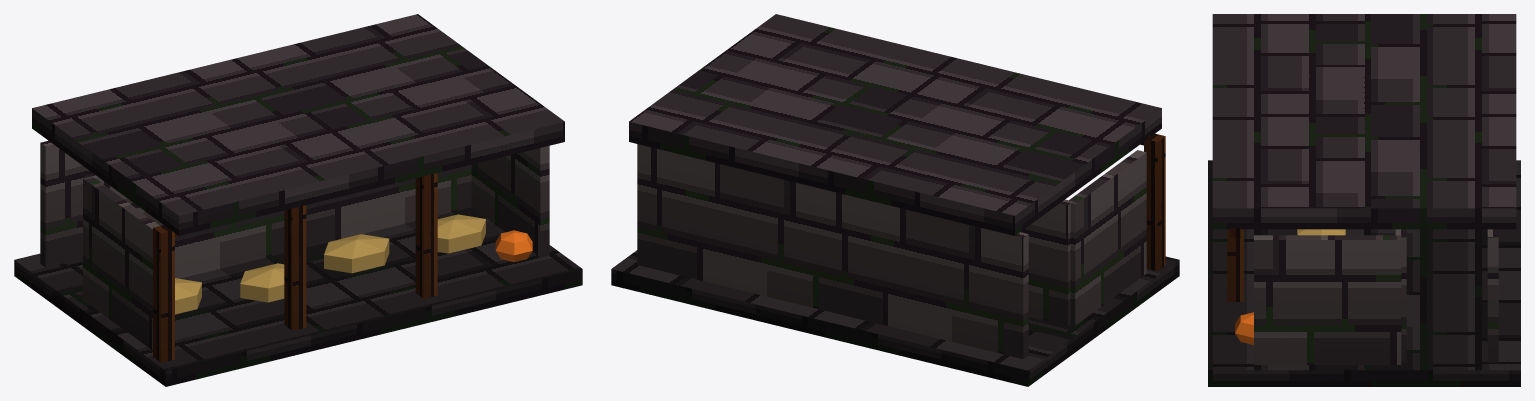
The model's file is lizard_stable.glb.
The picture shows the model from 3 angles, left to right: view 1: azimuth 30°, elevation 25°; view 2: azimuth 150°, elevation 25°; view 3: azimuth 270°, elevation 25°; orthographic projection. The views are drawn at different scales.
Parts seen in each view (by area): view 1: lizard_stable; view 2: lizard_stable; view 3: lizard_stable.
Boxes of the visible parts, box(x1,y1,x2,y2) form: lizard_stable: box(14, 14, 582, 386); lizard_stable: box(611, 14, 1179, 386); lizard_stable: box(1208, 14, 1520, 386).
Bounding box in the file's own units: 5.4 × 2.05 × 3.4.
Materials: 4 (2 with a texture image).
